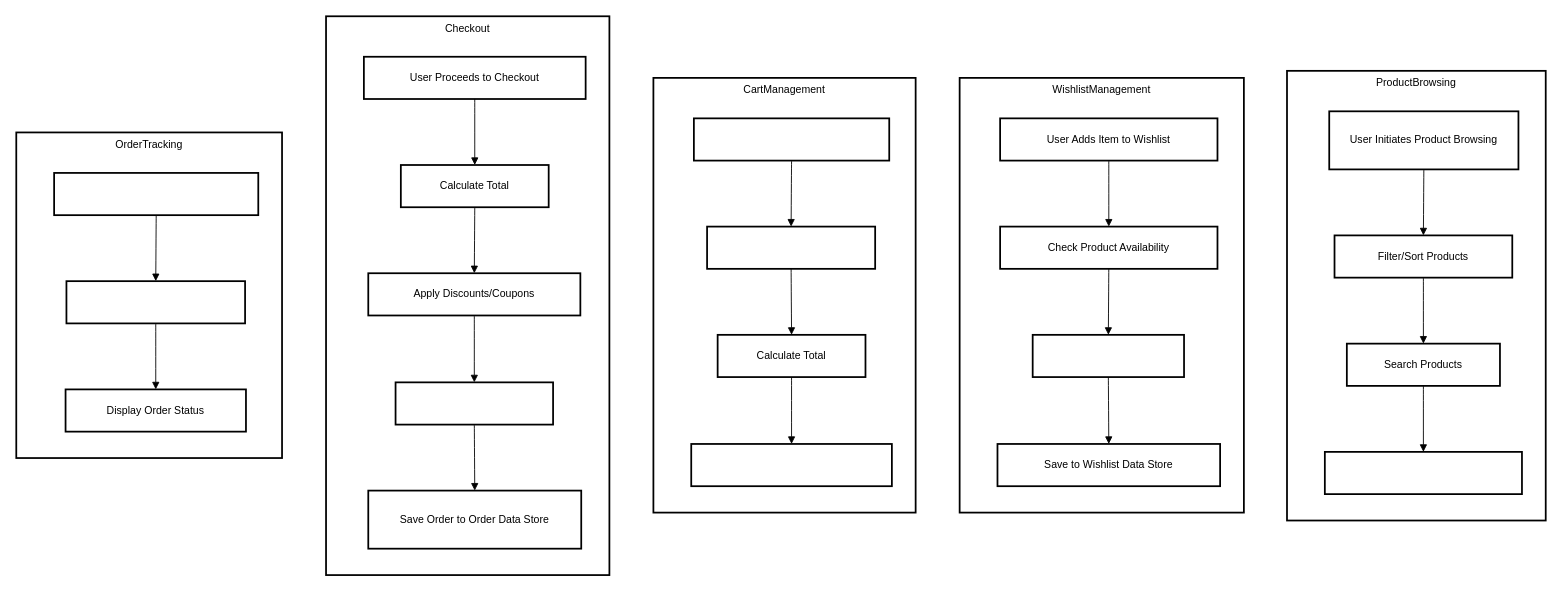
The diagram is 1561 pixels wide and 590 high, and some of its shapes have lost their labels. Each missing label, with the centre of its shape:
Display Product Details: point 1423,473
Process Payment: point 474,403
Retrieve Order Data: point 155,302
Save to Cart Data Store: point 791,465
Update Cart Items: point 791,247
Update Wishlist: point 1107,356
User Adds Item to Cart: point 791,139
User Views Order Status: point 156,194
